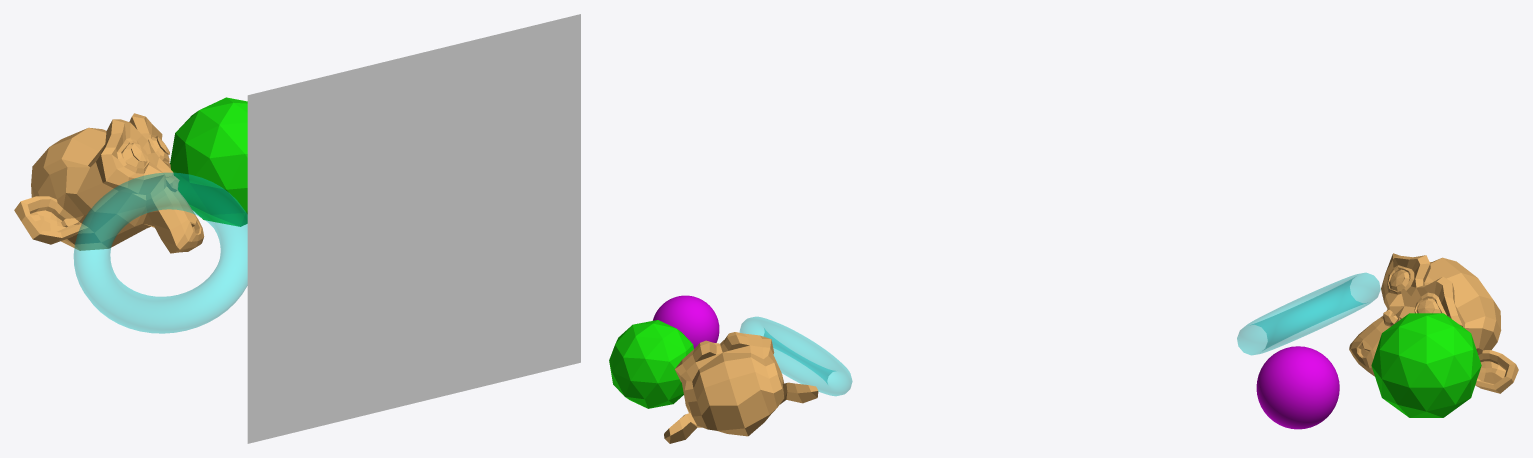
The model's file is CornellBoxless.glb.
The picture shows the model from 3 angles, left to right: view 1: azimuth 30°, elevation 25°; view 2: azimuth 150°, elevation 25°; view 3: azimuth 270°, elevation 25°; orthographic projection. The views are drawn at different scales.
Parts seen in each view (by area): view 1: Cube.004, Suzanne, Torus, Icosphere; view 2: Suzanne, Icosphere, Torus, Icosphere.001; view 3: Suzanne, Icosphere, Icosphere.001, Torus.
Boxes of the visible parts, x1,y1,x2,y2 form: Cube.004: [247, 14, 580, 443]; Suzanne: [14, 113, 204, 253]; Torus: [74, 173, 247, 333]; Icosphere: [170, 97, 247, 226]; Suzanne: [664, 332, 818, 443]; Icosphere: [609, 320, 693, 408]; Torus: [740, 317, 852, 395]; Icosphere.001: [652, 295, 719, 348]; Suzanne: [1349, 253, 1518, 393]; Icosphere: [1371, 313, 1481, 417]; Icosphere.001: [1256, 346, 1339, 429]; Torus: [1237, 273, 1380, 355].
Size of what is drawn, in the model's own units: 20 by 21.31 by 31.39.
